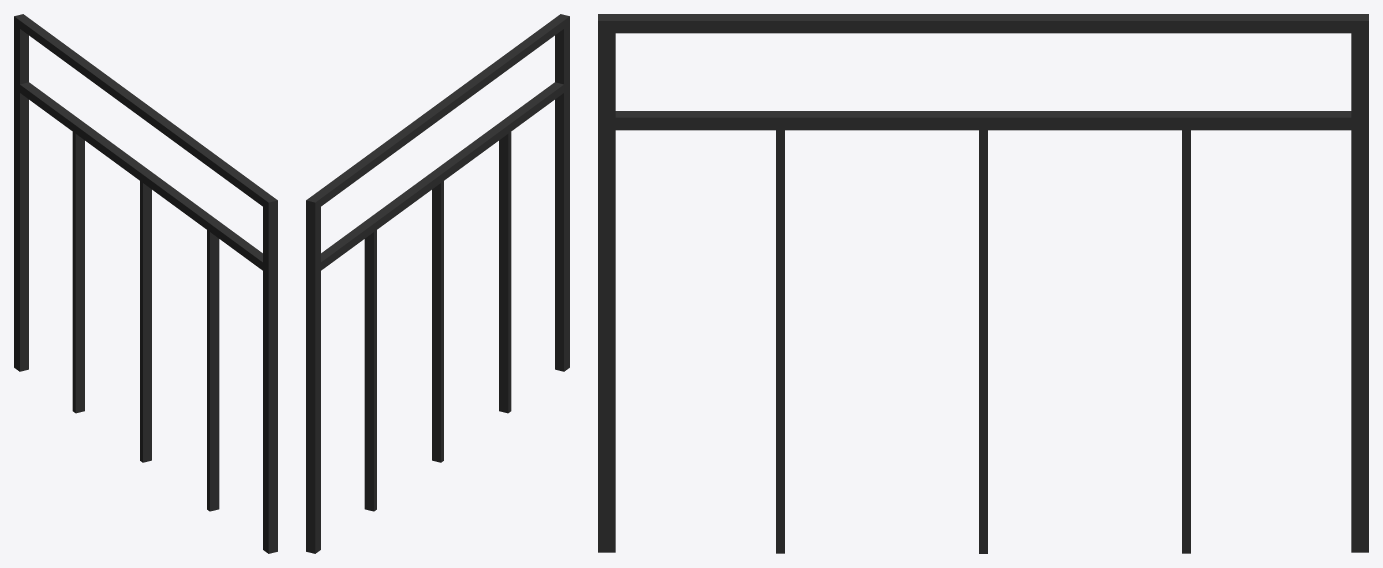
Rendered from Door.fbx.
3 renders of one model, left to right at view 1: azimuth 30°, elevation 25°; view 2: azimuth 150°, elevation 25°; view 3: azimuth 270°, elevation 25°, orthographic. The views are drawn at different scales.
Visible parts, largest first — view 1: Cube.002; view 2: Cube.002; view 3: Cube.002.
Boxes of the visible parts, x1,y1,x2,y2 form: Cube.002: (14, 14, 277, 553); Cube.002: (306, 14, 569, 553); Cube.002: (598, 14, 1368, 553).
Size of the model in its own units: 55.2 by 2000 by 2620.
1 material, 1 textured.
